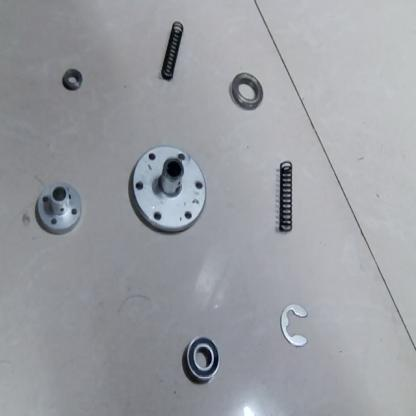FOD: (124, 138, 211, 238), (34, 180, 83, 233), (158, 18, 188, 81), (185, 333, 222, 384), (227, 64, 267, 111), (280, 300, 314, 350), (277, 155, 298, 234), (58, 66, 86, 92)
